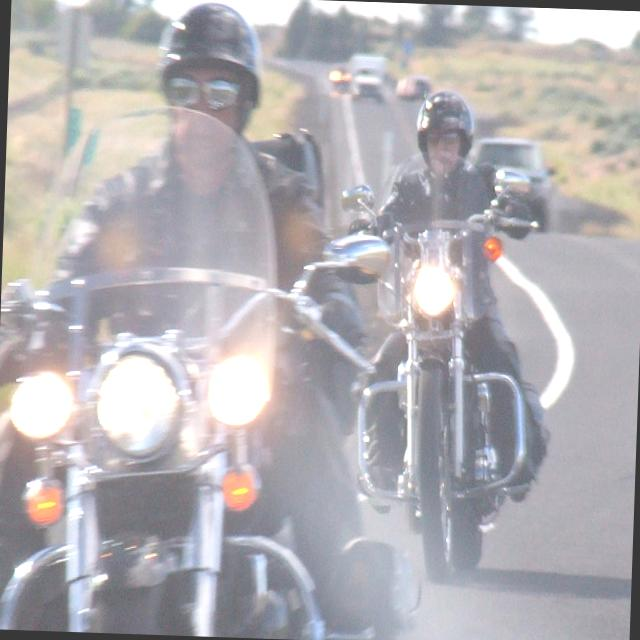Vehicle: (0, 99, 395, 640), (328, 155, 548, 595), (471, 140, 558, 230), (349, 54, 388, 102), (350, 57, 386, 106), (394, 74, 430, 98), (328, 62, 352, 92)
